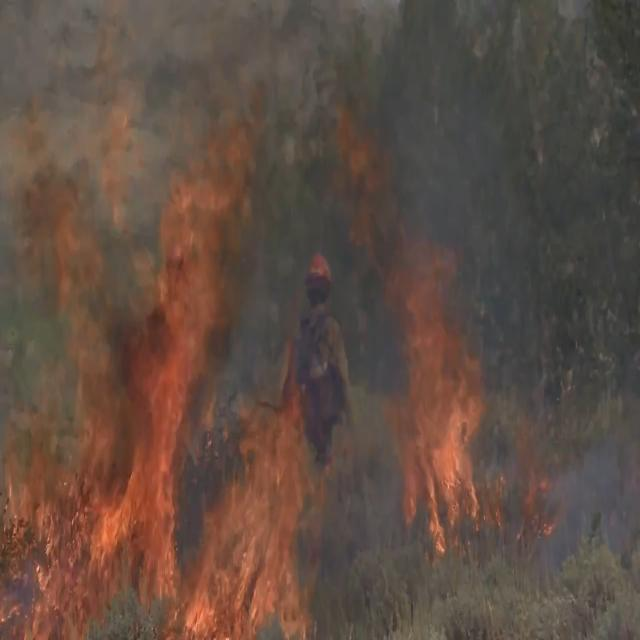Fire: (3, 14, 550, 640)
